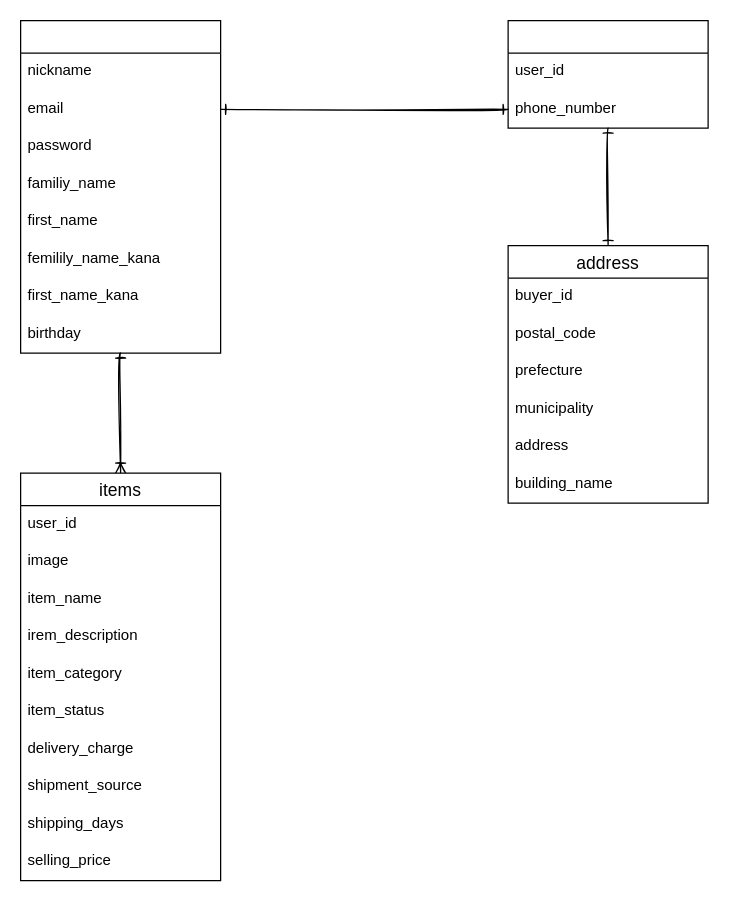
This 729x901 diagram has some shape labels left out. The shapes that lost their labels are listed below. From the top down, each one's box as (x1, y1, x2, y2) in pixels, then its label:
(507, 19, 708, 128): buyer
(19, 19, 221, 353): user
